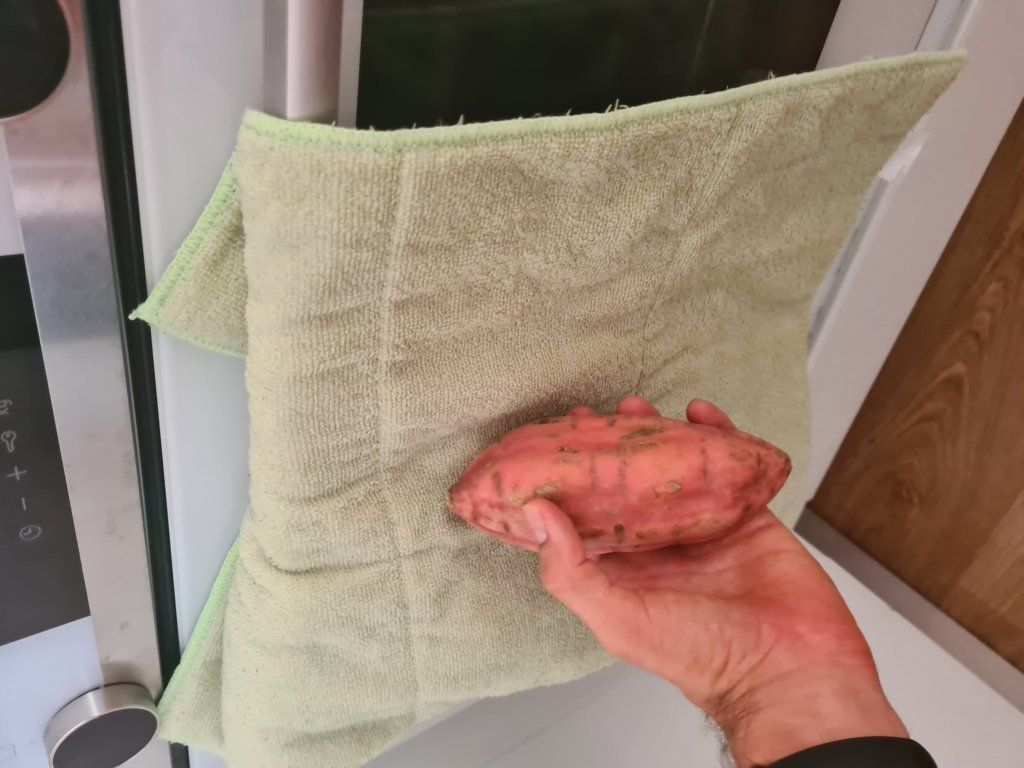Sweet Potatow: (454, 421, 796, 564)
